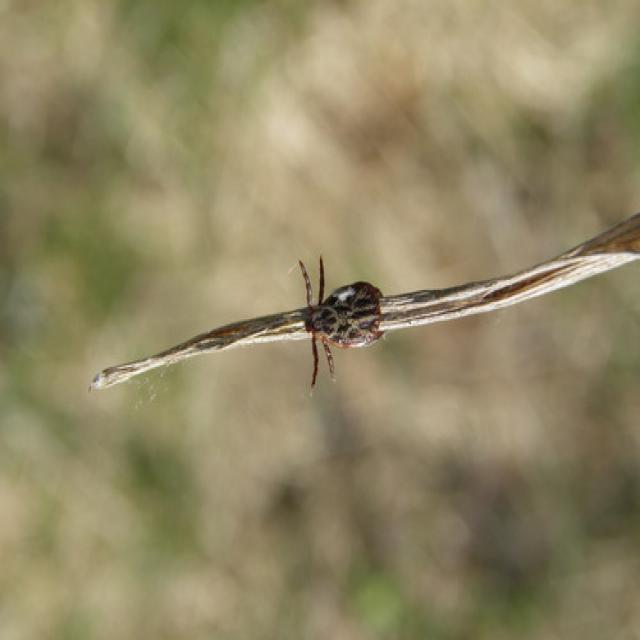Dermacentor Reticulatus-M: (298, 256, 383, 391)
